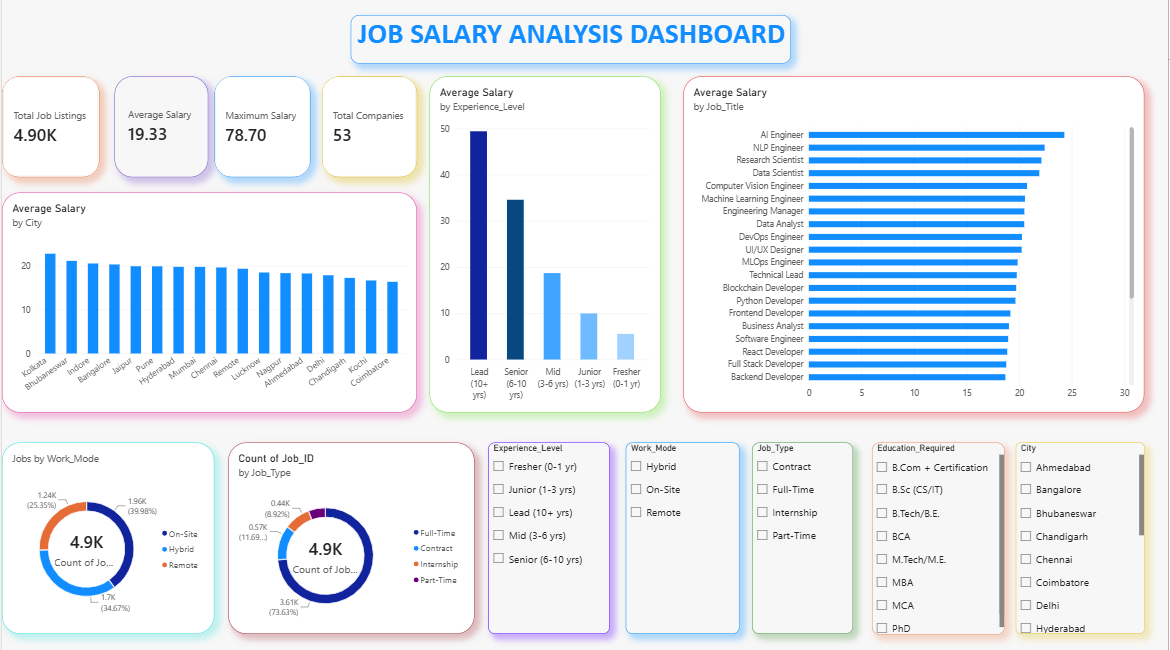

What the dashboard file says about the page in this screenshot:
{"tool":"powerbi","page":{"name":"Page 1","canvas":[1920,1080],"ordinal":0},"visuals":[{"type":"cardVisual","fields":{"Data":["job_salary_db job_salary.Total Job Listings"]},"box":[0,125.6,160.5,166.7],"z":0},{"type":"cardVisual","fields":{"Data":["job_salary_db job_salary.Average Salary"]},"box":[185.2,125.6,154.4,166.7],"z":1000},{"type":"cardVisual","fields":{"Data":["job_salary_db job_salary.Maximum Salary"]},"box":[349.9,125.6,158.5,166.7],"z":2000},{"type":"cardVisual","fields":{"Data":["job_salary_db job_salary.Total Companies"]},"box":[526.9,125.6,156.4,166.7],"z":3000},{"type":"clusteredColumnChart","fields":{"Category":["job_salary_db job_salary.Experience_Level"],"Y":["job_salary_db job_salary.Average Salary"]},"box":[703.9,125.6,380.8,553.7],"z":4000},{"type":"clusteredBarChart","fields":{"Category":["job_salary_db job_salary.Job_Title"],"Y":["job_salary_db job_salary.Average Salary"]},"box":[1121.8,125.6,759.5,553.7],"z":5000},{"type":"clusteredColumnChart","fields":{"Category":["job_salary_db job_salary.City"],"Y":["job_salary_db job_salary.Average Salary"]},"box":[0,317,683.4,362.3],"z":6000},{"type":"donutChart","fields":{"Category":["job_salary_db job_salary.Work_Mode"],"Y":["CountNonNull(job_salary_db job_salary.Job_ID)"]},"box":[0,728.6,349.9,314.9],"z":7000},{"type":"donutChart","fields":{"Category":["job_salary_db job_salary.Job_Type"],"Y":["CountNonNull(job_salary_db job_salary.Job_ID)"]},"box":[372.6,728.6,405.5,314.9],"z":8000},{"type":"slicer","fields":{"Values":["job_salary_db job_salary.Experience_Level"]},"box":[800.7,728.6,199.7,314.9],"z":9000},{"type":"slicer","fields":{"Values":["job_salary_db job_salary.Work_Mode"]},"box":[1027.1,728.6,187.3,314.9],"z":10000},{"type":"slicer","fields":{"Values":["job_salary_db job_salary.Job_Type"]},"box":[1235,728.6,166.7,314.9],"z":11000},{"type":"slicer","fields":{"Values":["job_salary_db job_salary.Education_Required"]},"box":[1432.6,728.6,218.2,317],"z":12000},{"type":"slicer","fields":{"Values":["job_salary_db job_salary.City"]},"box":[1669.3,728.6,212,314.9],"z":13000},{"type":"textbox","box":[574.3,24.7,724.5,80.3],"z":14000}]}

Visuals, with their boxes in screenshot pixels (x1, y1, x2, y2), scaled from the page's 1920x1080 canvas onto the 1170x650 screenshot:
cardVisual - job_salary_db job_salary.Total Job Listings: (left=0, top=76, right=98, bottom=176)
cardVisual - job_salary_db job_salary.Average Salary: (left=113, top=76, right=207, bottom=176)
cardVisual - job_salary_db job_salary.Maximum Salary: (left=213, top=76, right=310, bottom=176)
cardVisual - job_salary_db job_salary.Total Companies: (left=321, top=76, right=416, bottom=176)
clusteredColumnChart - job_salary_db job_salary.Experience_Level x job_salary_db job_salary.Average Salary: (left=429, top=76, right=661, bottom=409)
clusteredBarChart - job_salary_db job_salary.Job_Title x job_salary_db job_salary.Average Salary: (left=684, top=76, right=1146, bottom=409)
clusteredColumnChart - job_salary_db job_salary.City x job_salary_db job_salary.Average Salary: (left=0, top=191, right=416, bottom=409)
donutChart - job_salary_db job_salary.Work_Mode x CountNonNull(job_salary_db job_salary.Job_ID): (left=0, top=439, right=213, bottom=628)
donutChart - job_salary_db job_salary.Job_Type x CountNonNull(job_salary_db job_salary.Job_ID): (left=227, top=439, right=474, bottom=628)
slicer - job_salary_db job_salary.Experience_Level: (left=488, top=439, right=610, bottom=628)
slicer - job_salary_db job_salary.Work_Mode: (left=626, top=439, right=740, bottom=628)
slicer - job_salary_db job_salary.Job_Type: (left=753, top=439, right=854, bottom=628)
slicer - job_salary_db job_salary.Education_Required: (left=873, top=439, right=1006, bottom=629)
slicer - job_salary_db job_salary.City: (left=1017, top=439, right=1146, bottom=628)
textbox: (left=350, top=15, right=791, bottom=63)
